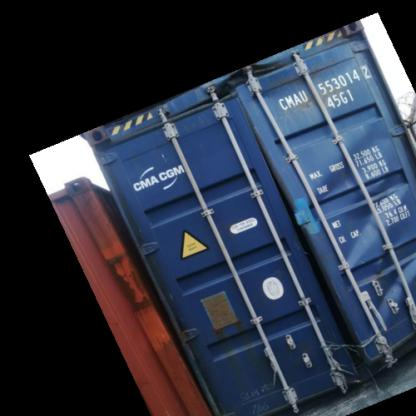Damage: (279, 123, 411, 362), (198, 60, 298, 102), (204, 313, 250, 351)
